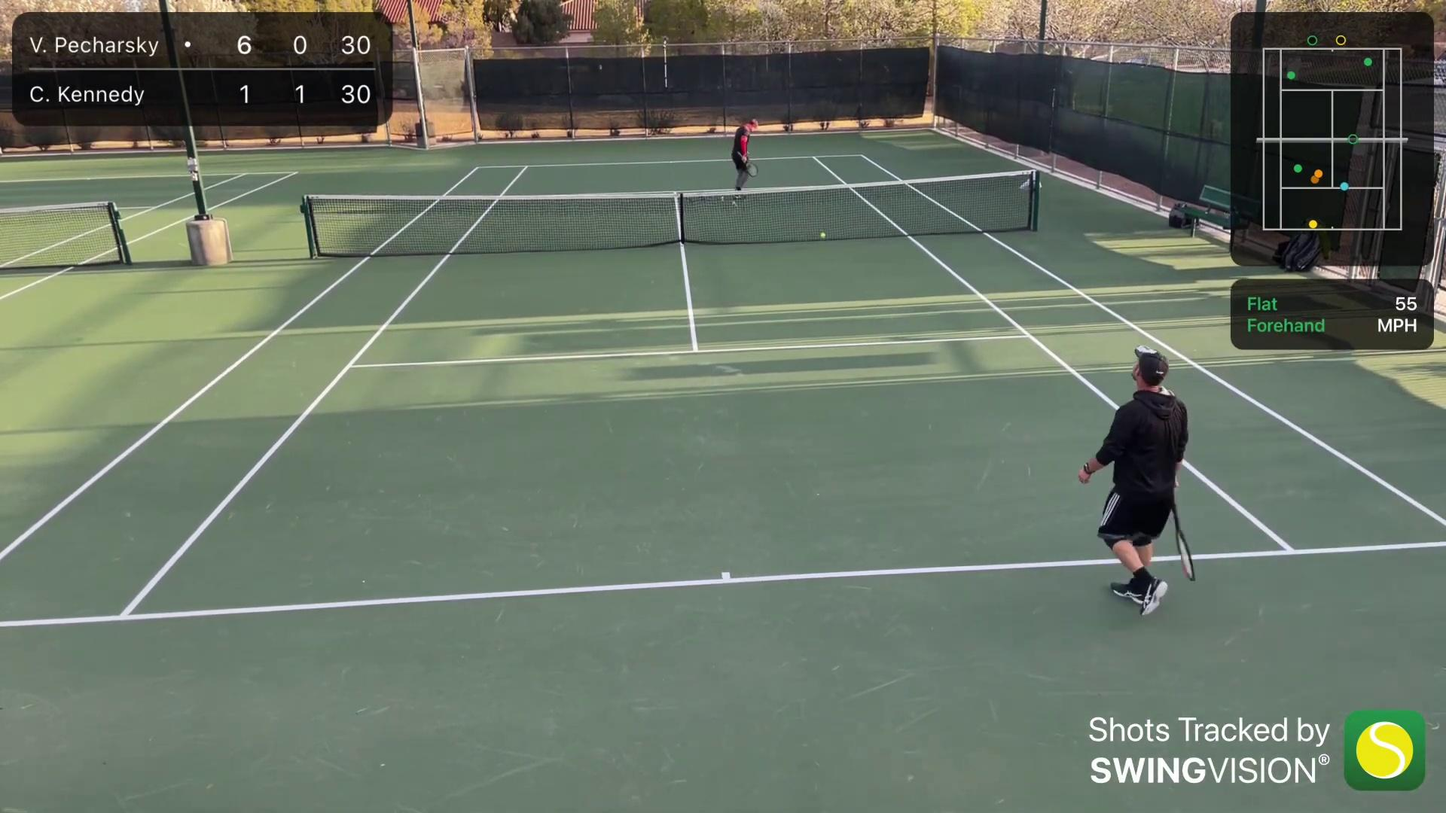ball: (167, 411, 175, 422)
